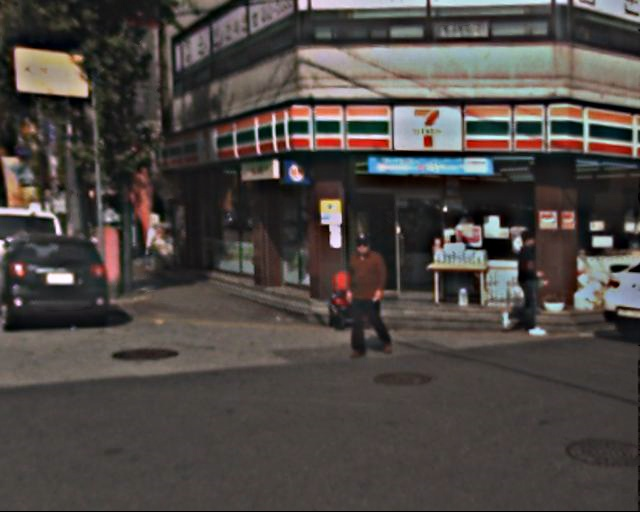person: (341, 233, 399, 357), (504, 229, 555, 339)
